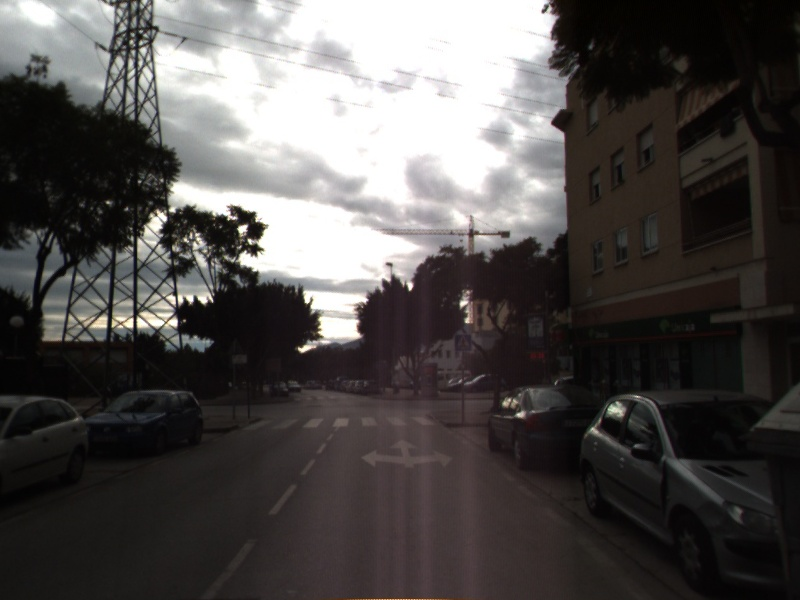STRAIGHT_LEFT_RIGHT: (359, 437, 456, 470)
